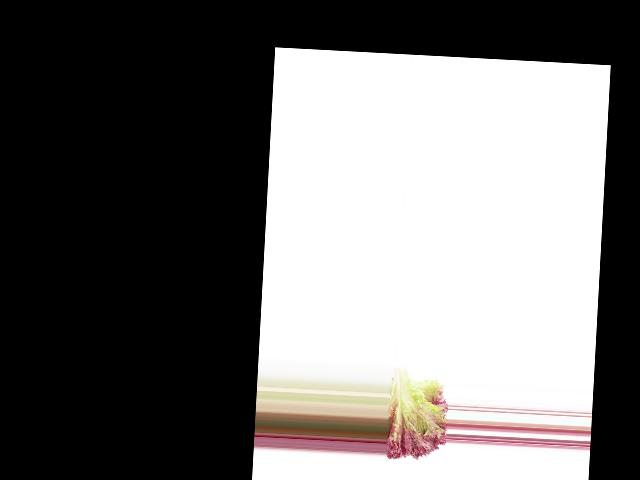lettuce: (385, 364, 448, 467)
